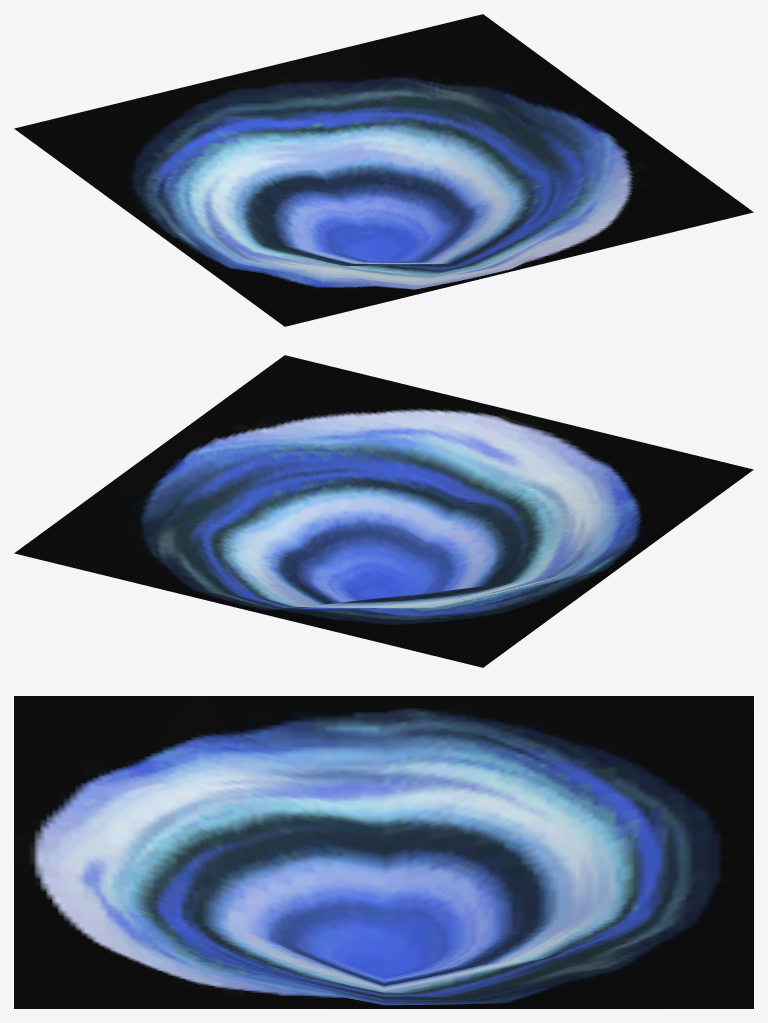
Rendered from INST_SM_WHIRLPOOL.fbx.
The picture shows the model from 3 angles, top to bottom: view 1: azimuth 30°, elevation 25°; view 2: azimuth 150°, elevation 25°; view 3: azimuth 270°, elevation 25°; orthographic projection. The views are drawn at different scales.
Visible parts, largest first — view 1: INST_SM_WHIRLPOOL; view 2: INST_SM_WHIRLPOOL; view 3: INST_SM_WHIRLPOOL.
Part boxes in pixels (left/top/right/bottom): INST_SM_WHIRLPOOL: left=14, top=14, right=753, bottom=326; INST_SM_WHIRLPOOL: left=14, top=355, right=753, bottom=667; INST_SM_WHIRLPOOL: left=14, top=696, right=753, bottom=1008.
Size of the model in its own units: 20000 by 3610 by 20000.
Materials: 1 (1 with a texture image).
